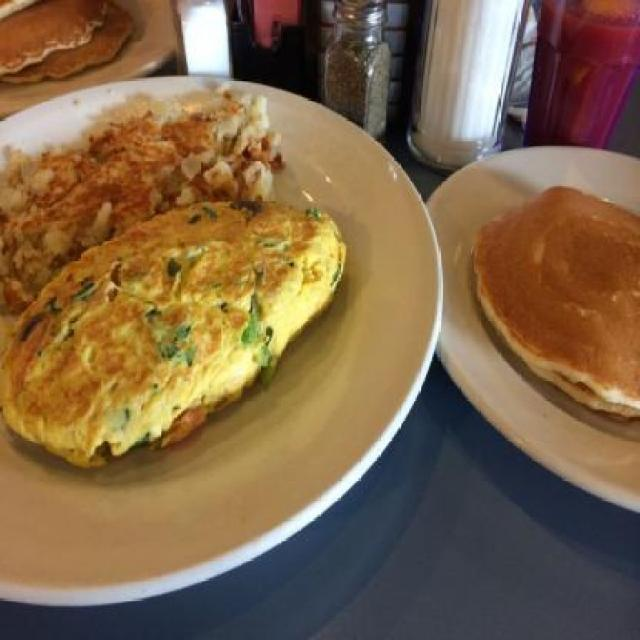omelette: (6, 178, 352, 465)
pancakes: (458, 167, 639, 418)
